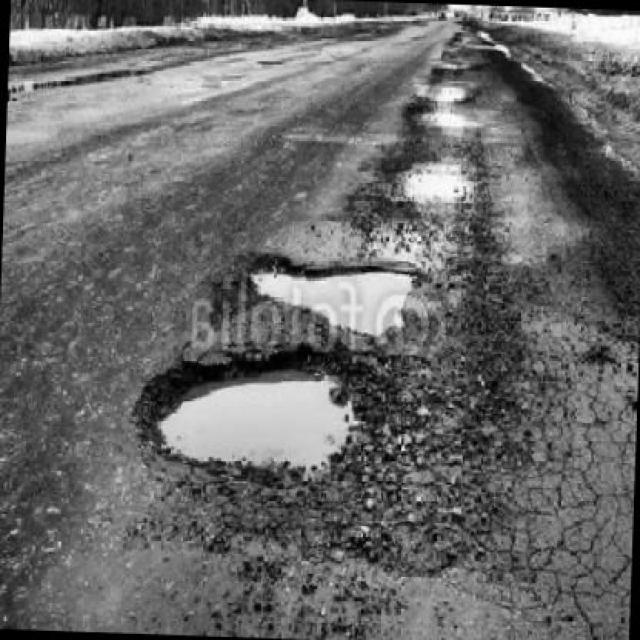pothole: (132, 332, 383, 485), (240, 247, 426, 341), (401, 155, 477, 210), (415, 104, 477, 130), (422, 80, 471, 102)
